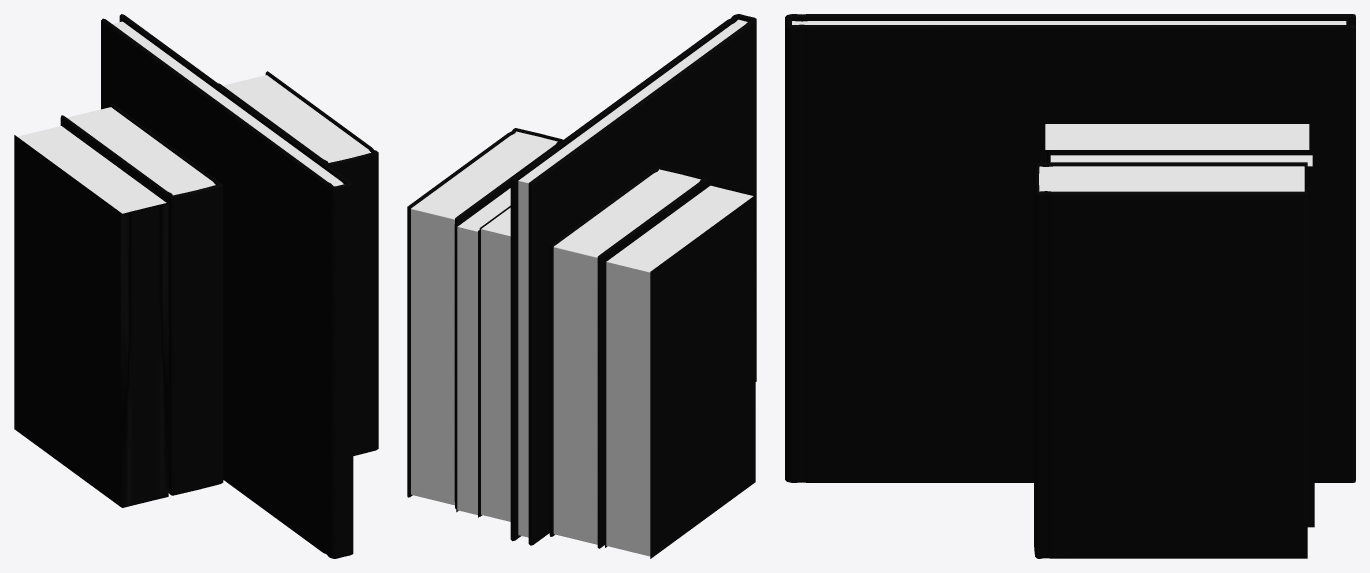
The model's file is livres.glb.
The picture shows the model from 3 angles, left to right: view 1: azimuth 30°, elevation 25°; view 2: azimuth 150°, elevation 25°; view 3: azimuth 270°, elevation 25°; orthographic projection. The views are drawn at different scales.
Parts seen in each view (by area): view 1: catalogue_hardcover_01_cover03, book_softcover_01_cover01, book_hardcover_01_cover02, book_hardcover_01_cover06; view 2: book_softcover_01_cover01, catalogue_hardcover_01_cover03, book_hardcover_01_cover02, book_hardcover_01_cover06, book_softcover_01_cover04, book_softcover_01_cover05; view 3: catalogue_hardcover_01_cover03, book_hardcover_01_cover06, book_softcover_01_cover04, book_softcover_01_cover05.
Part boxes in pixels (x1=…): catalogue_hardcover_01_cover03: x1=101, y1=14, x2=353, y2=558; book_softcover_01_cover01: x1=14, y1=124, x2=168, y2=507; book_hardcover_01_cover02: x1=60, y1=103, x2=223, y2=495; book_hardcover_01_cover06: x1=218, y1=71, x2=378, y2=455; book_softcover_01_cover01: x1=605, y1=184, x2=755, y2=558; catalogue_hardcover_01_cover03: x1=510, y1=14, x2=756, y2=545; book_hardcover_01_cover02: x1=549, y1=166, x2=708, y2=548; book_hardcover_01_cover06: x1=407, y1=128, x2=562, y2=508; book_softcover_01_cover04: x1=479, y1=205, x2=510, y2=521; book_softcover_01_cover05: x1=456, y1=186, x2=510, y2=517; catalogue_hardcover_01_cover03: x1=785, y1=14, x2=1355, y2=482; book_hardcover_01_cover06: x1=1034, y1=162, x2=1307, y2=558; book_softcover_01_cover04: x1=1044, y1=122, x2=1311, y2=162; book_softcover_01_cover05: x1=1049, y1=153, x2=1314, y2=527.
Bounding box in the file's own units: 0.2004 × 0.2827 × 0.3194.
Materials: 6 (6 with a texture image).
